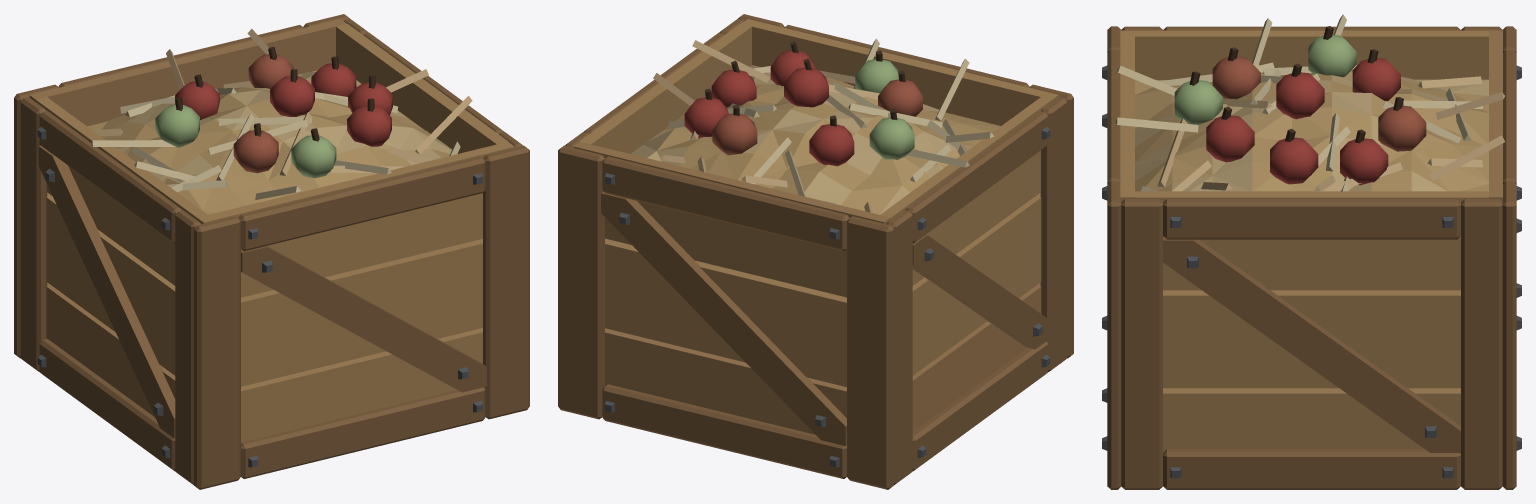
Rendered from SM_LPD_Crate_CrateOpen_01.fbx.
3 views of the same model, side by side, from view 1: azimuth 30°, elevation 25°; view 2: azimuth 150°, elevation 25°; view 3: azimuth 270°, elevation 25° (orthographic). The views are drawn at different scales.
Parts seen in each view (by area): view 1: SM_LPD_Crate_CrateOpen_01; view 2: SM_LPD_Crate_CrateOpen_01; view 3: SM_LPD_Crate_CrateOpen_01.
Boxes of the visible parts, box(x1,y1,x2,y2) form: SM_LPD_Crate_CrateOpen_01: box(14, 14, 529, 489); SM_LPD_Crate_CrateOpen_01: box(558, 14, 1073, 489); SM_LPD_Crate_CrateOpen_01: box(1102, 14, 1521, 489).
Size of the model in its own units: 0.68 by 0.5999 by 0.66.
